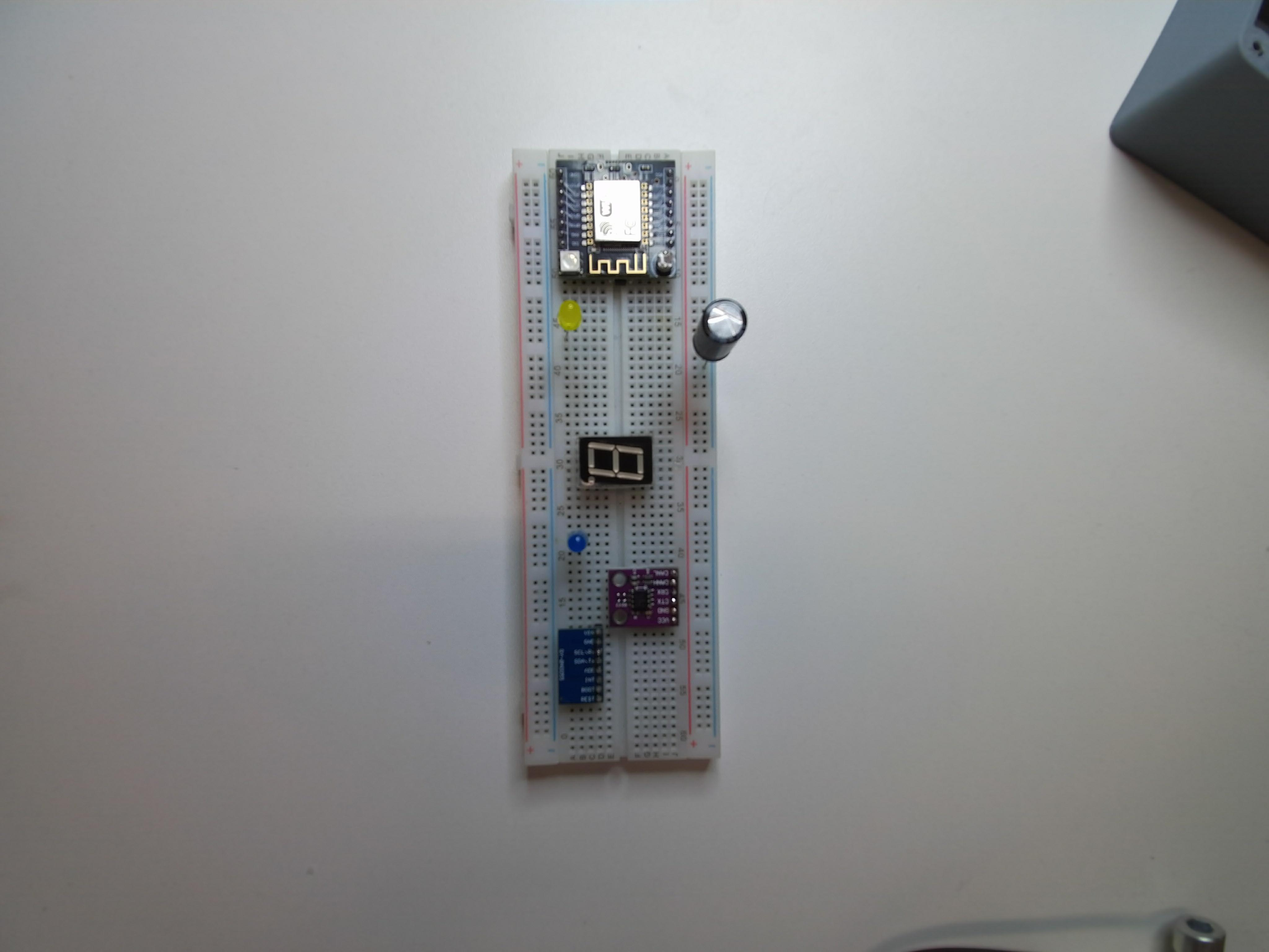base: (503, 146, 739, 787)
blue-board: (556, 625, 609, 710)
blue-led: (569, 532, 587, 554)
capacitor: (691, 295, 749, 364)
digit-board: (576, 434, 655, 492)
esp: (553, 157, 680, 288)
purple-board: (605, 567, 682, 631)
yellow-led: (551, 295, 587, 336)
